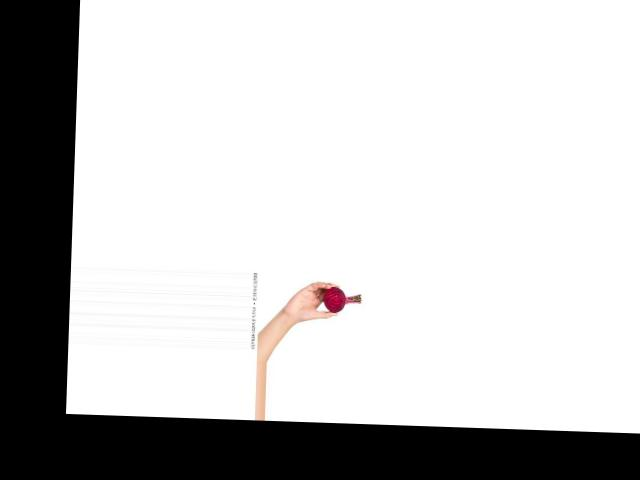beet: (322, 285, 362, 313)
